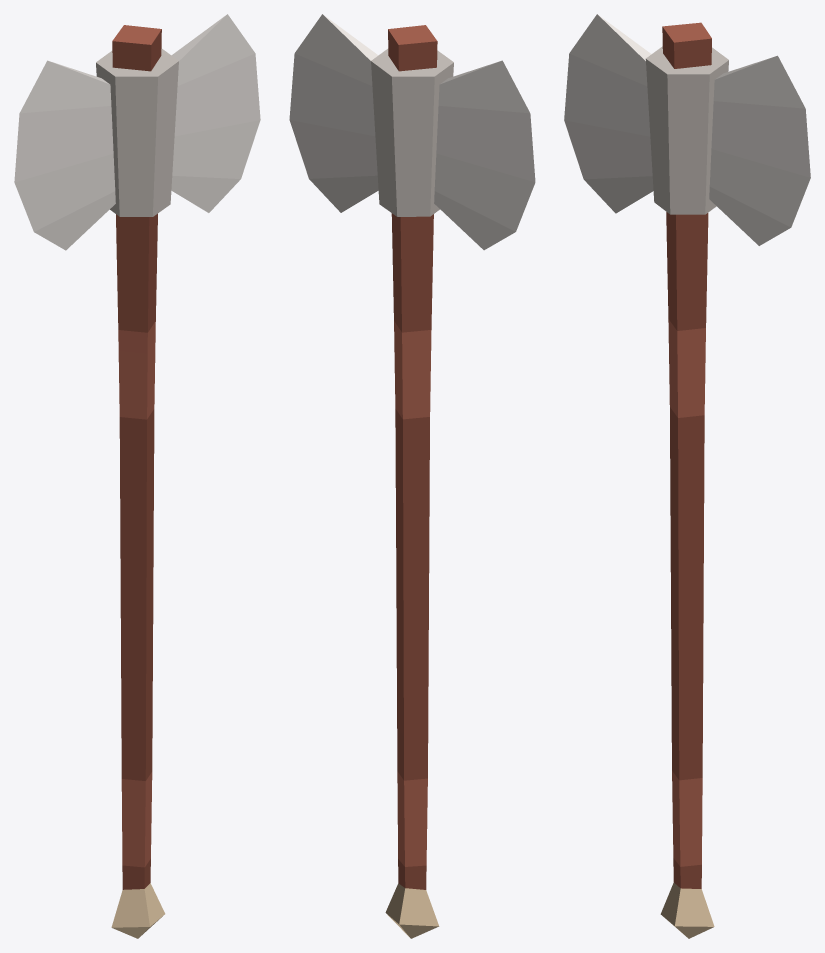
Rendered from axe_5.glb.
The picture shows the model from 3 angles, left to right: view 1: azimuth 30°, elevation 25°; view 2: azimuth 150°, elevation 25°; view 3: azimuth 330°, elevation 25°; orthographic projection.
Visible parts, largest first — view 1: axe_5.001; view 2: axe_5.001; view 3: axe_5.001.
Part boxes in pixels (x1=…): axe_5.001: x1=14, y1=14, x2=260, y2=938; axe_5.001: x1=289, y1=14, x2=535, y2=938; axe_5.001: x1=564, y1=14, x2=810, y2=938.
Size of the model in its own units: 0.2849 by 1 by 0.0816.
Materials: 1 (1 with a texture image).
